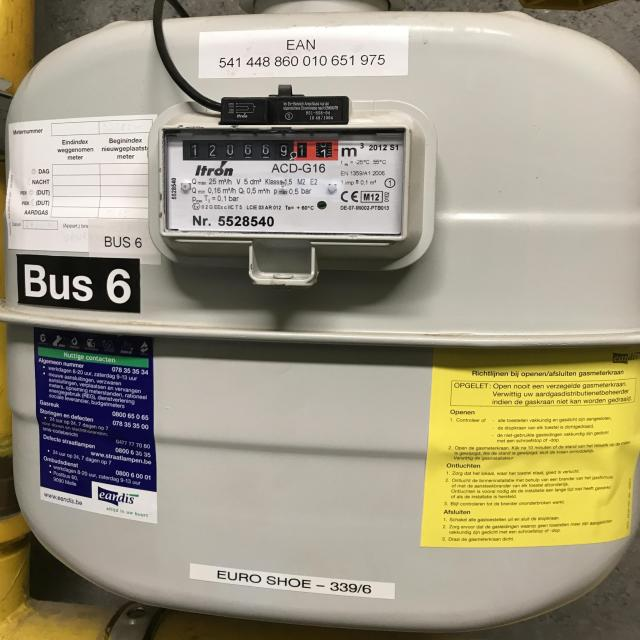gaz_meter: (162, 129, 407, 237)
indication: (184, 136, 340, 167)
